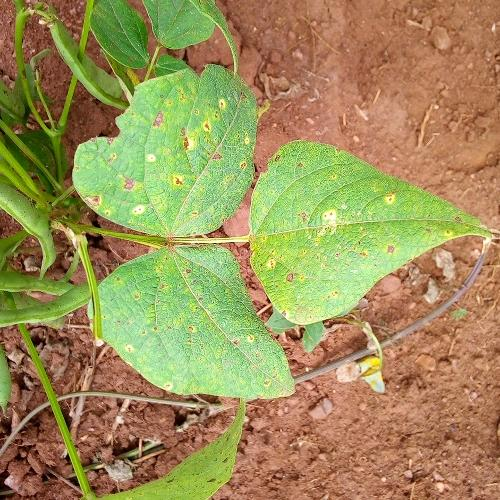hawar: (83, 88, 256, 211), (261, 176, 408, 278), (110, 256, 251, 356)
